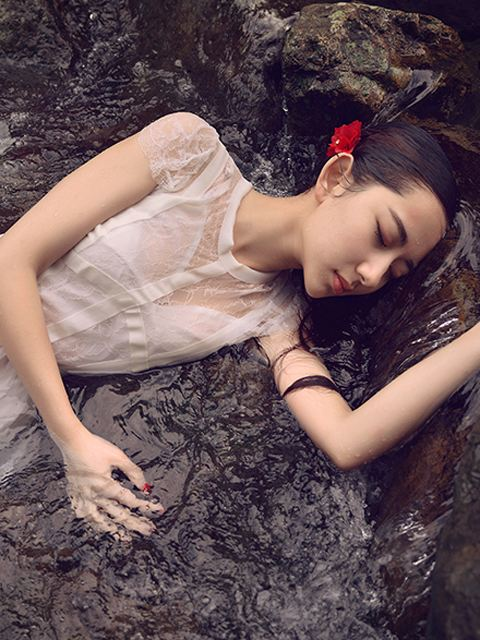person: (23, 91, 429, 454)
